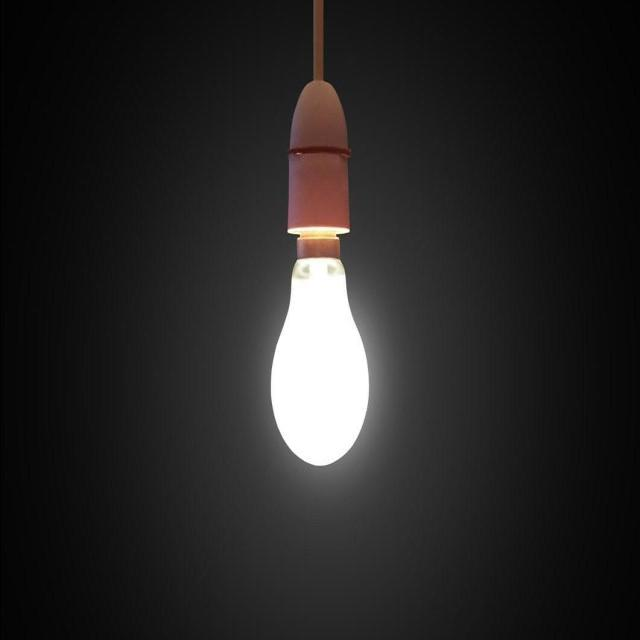other: (258, 225, 390, 485)
